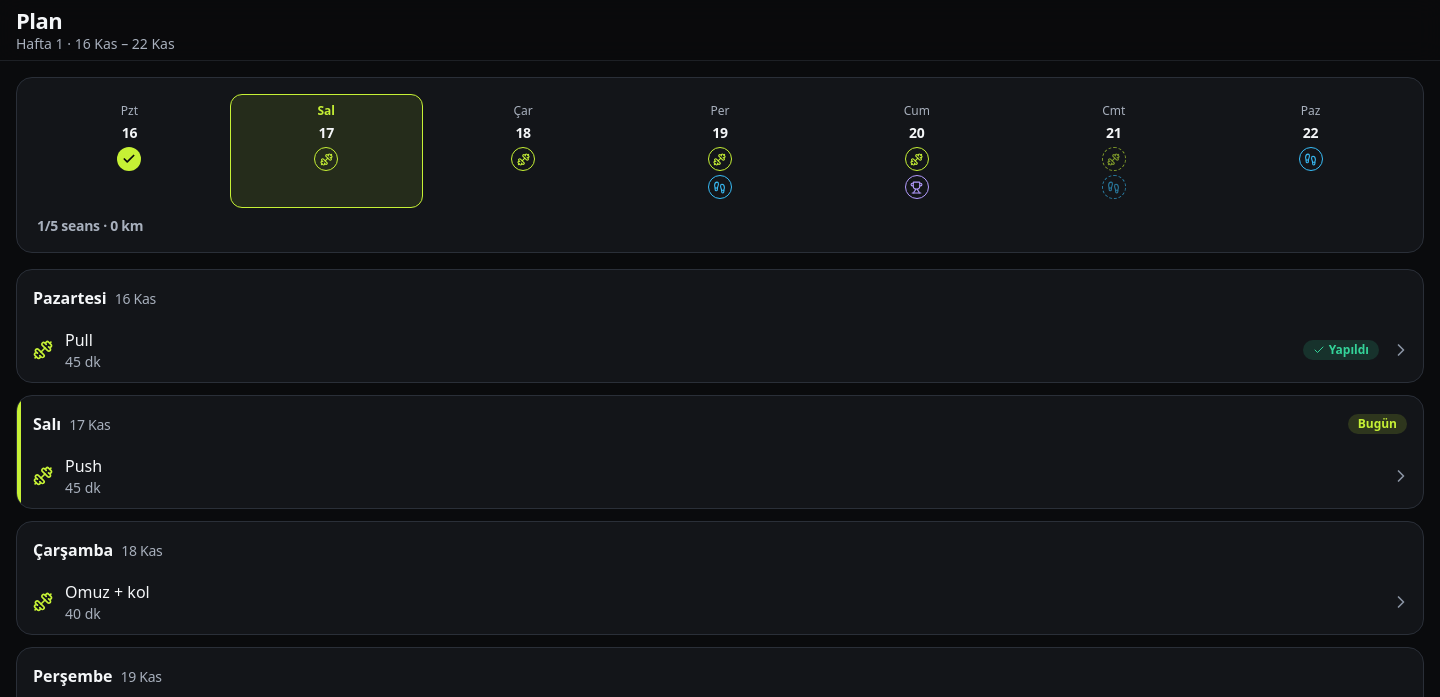
Test case: PlanScreen session sheet › targets the last logged load and shows its RPE once history exists
Click the button "Push 45 dk" at (84, 466), box [17,444,1423,508]
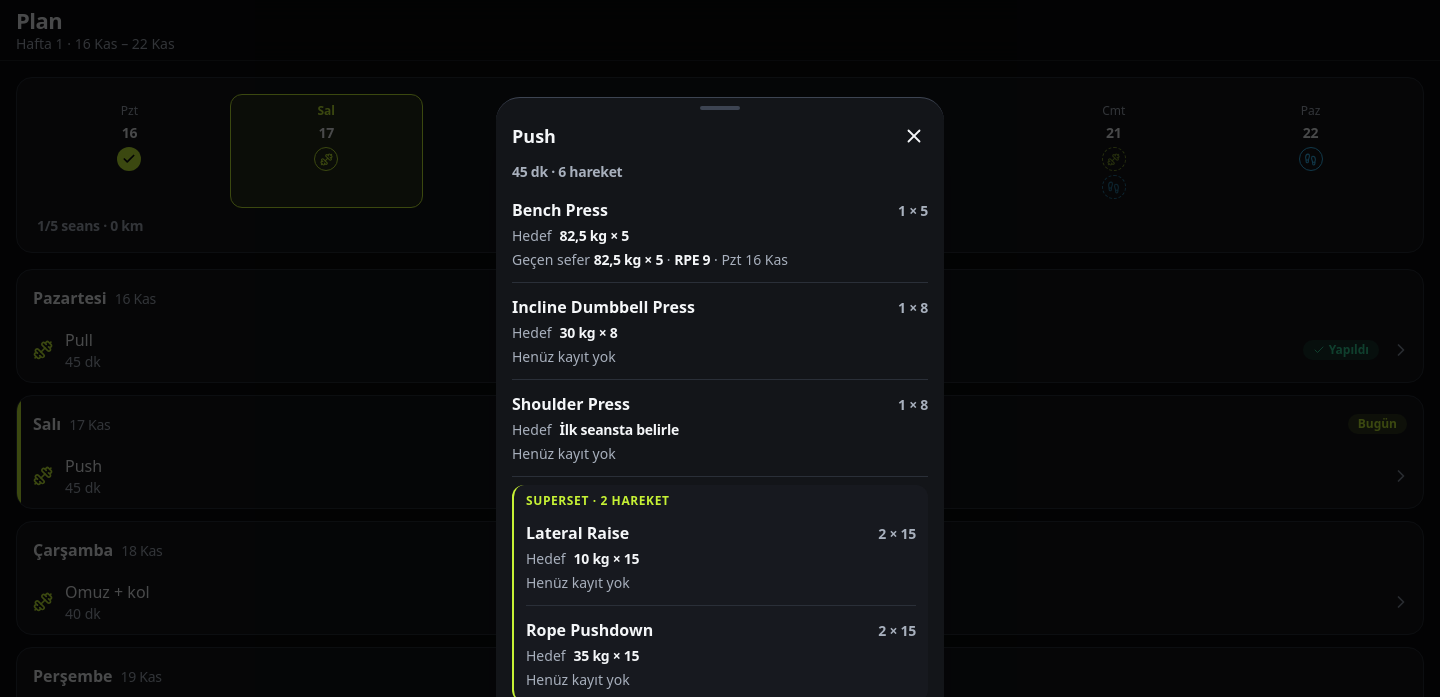
Expected: the text "82,5 kg × 5" is shown 2 times, [560,226,629,246]; [594,250,663,269]
Expected: the text "RPE 9" is shown, [674,250,710,269]
